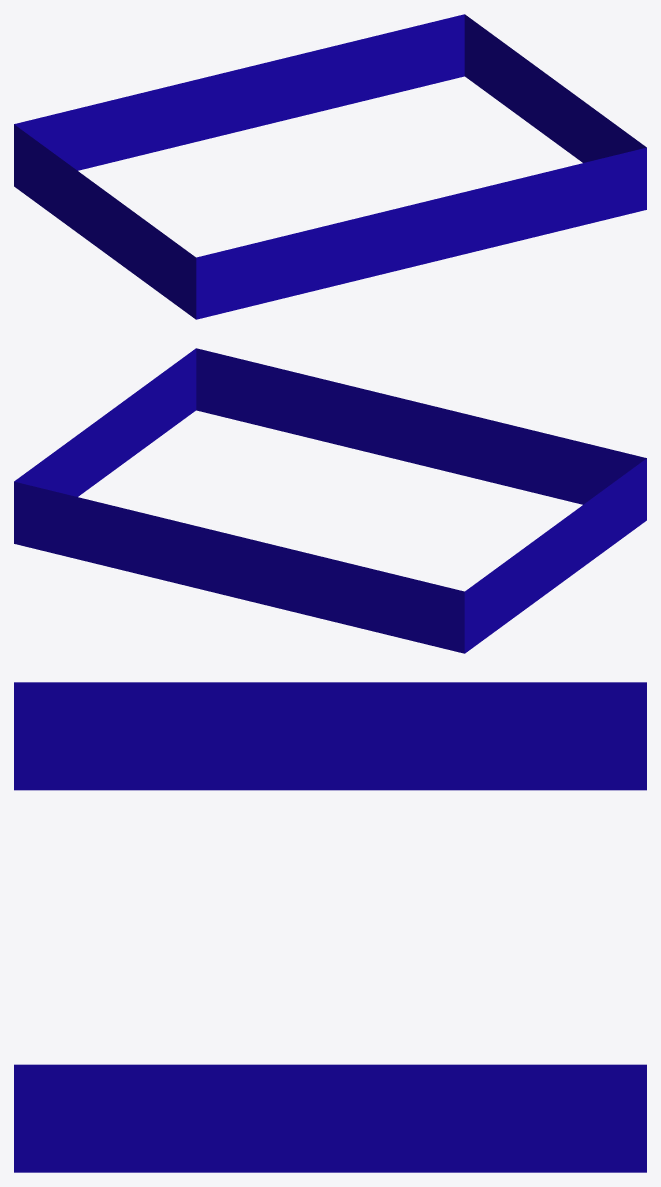
3 views of the same model, one above another, from view 1: azimuth 30°, elevation 25°; view 2: azimuth 150°, elevation 25°; view 3: azimuth 270°, elevation 25° (orthographic). The views are drawn at different scales.
Visible parts, largest first — view 1: Cube; view 2: Cube; view 3: Cube.
Boxes of the visible parts, x1,y1,x2,y2 form: Cube: [14, 14, 646, 319]; Cube: [14, 348, 646, 653]; Cube: [14, 682, 646, 1172].
Size of the model in its own units: 2188 by 289 by 1532.
